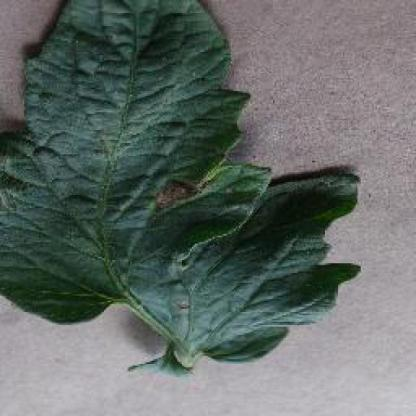Tomato_Blight: (0, 0, 362, 362)
